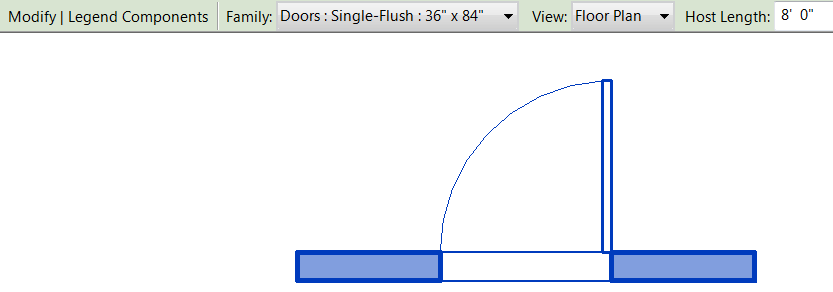door: (441, 70, 612, 252)
